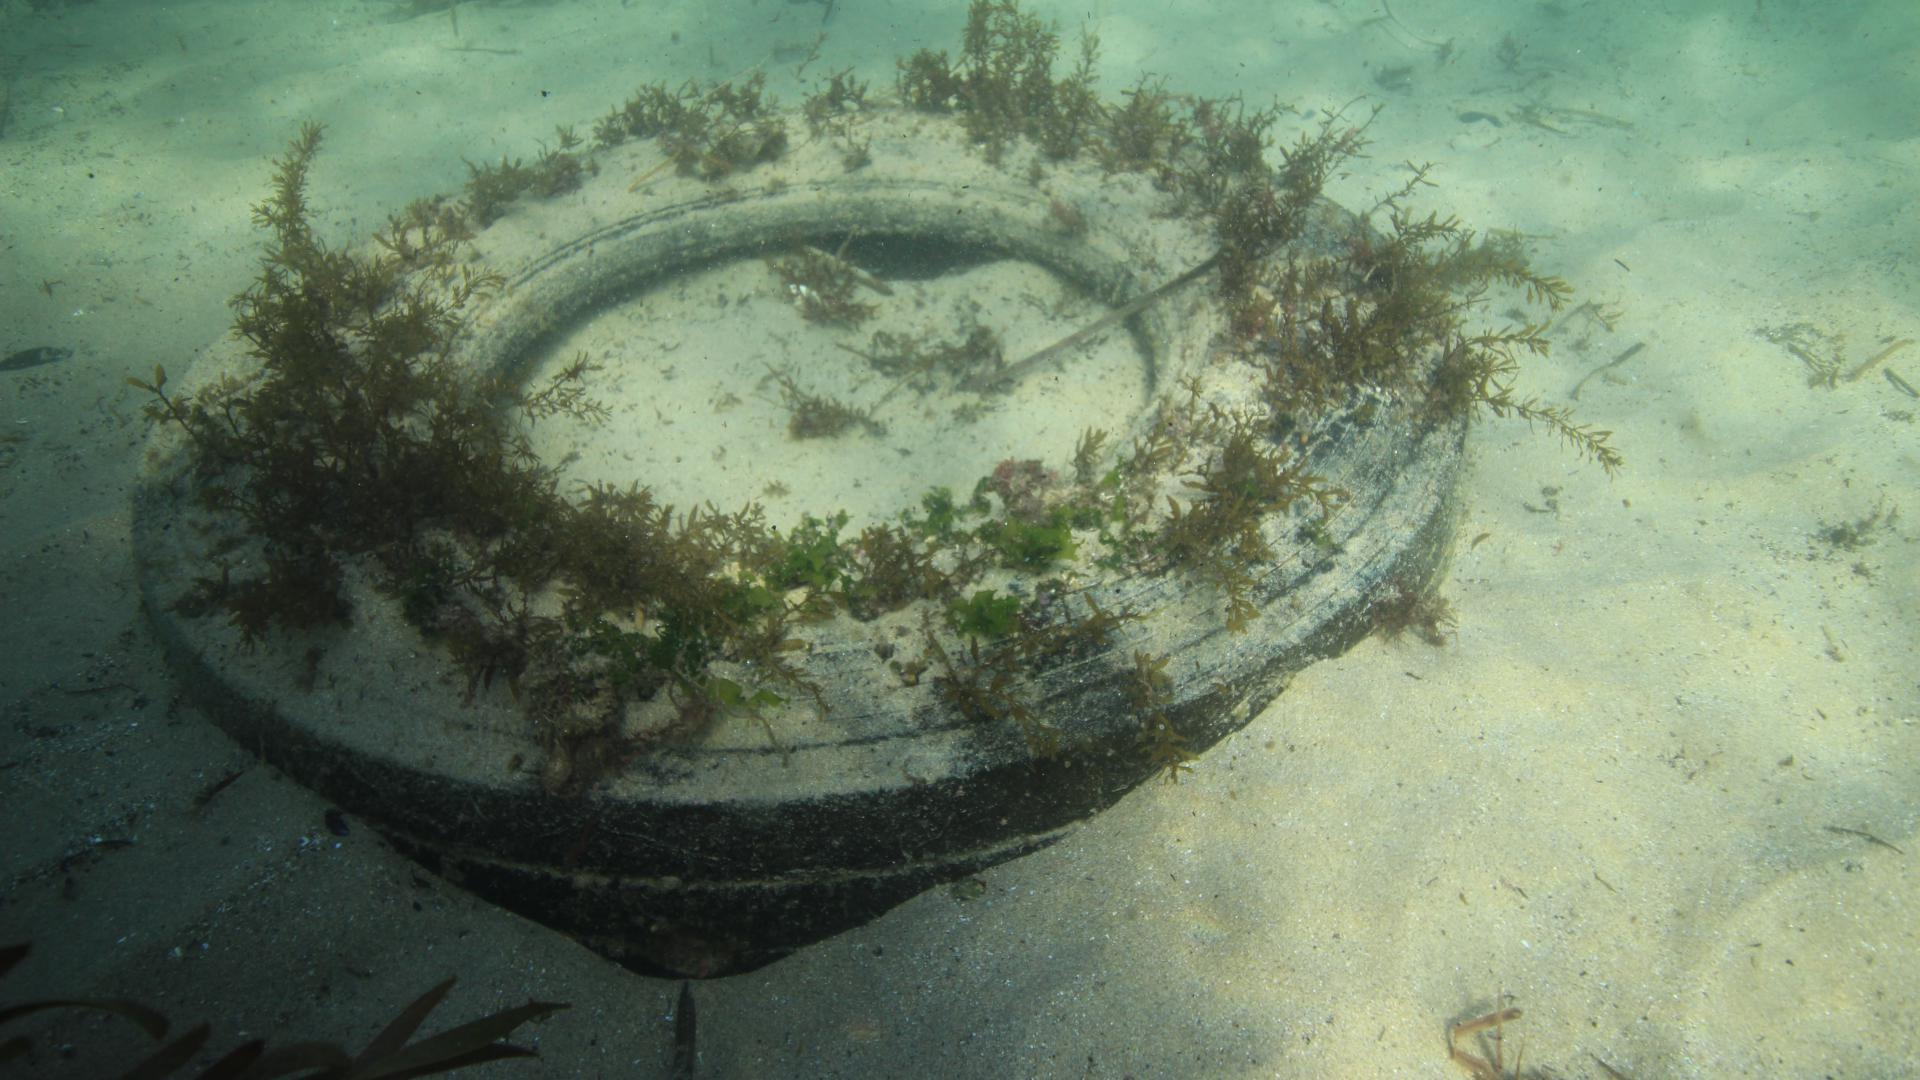tire: (128, 104, 1468, 982)
